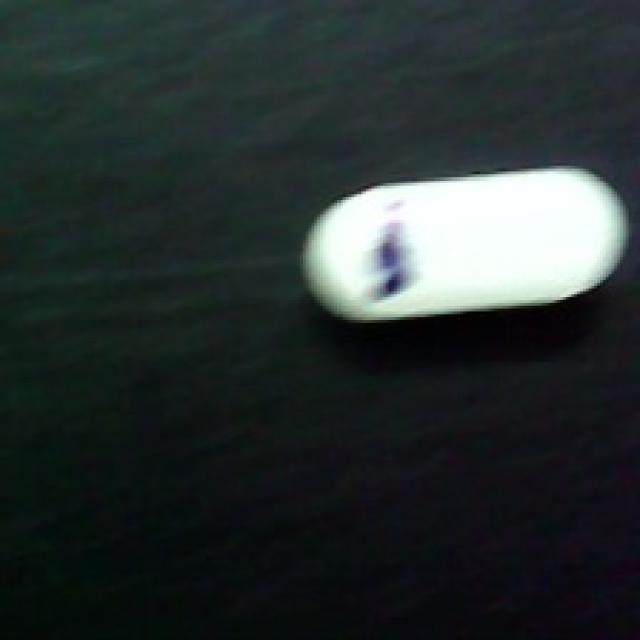defected: (294, 149, 631, 329)
